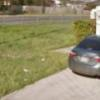cars: (69, 36, 100, 77)
